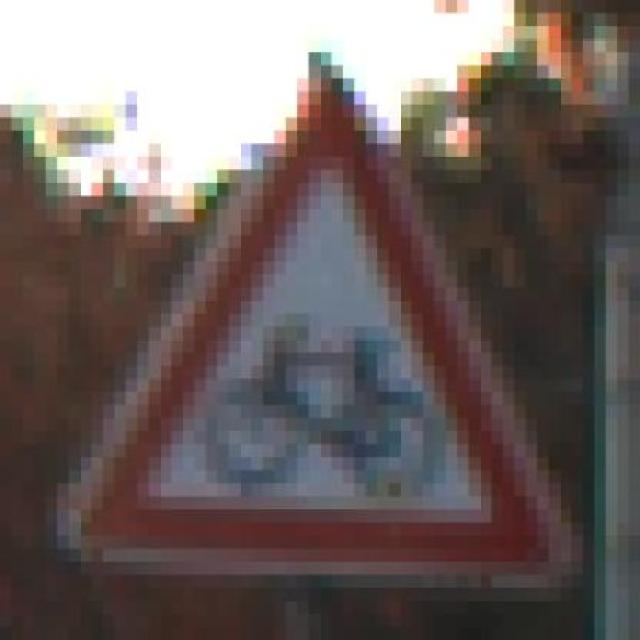CYCLE ROUTE AHEAD WARNING: (57, 39, 572, 601)
